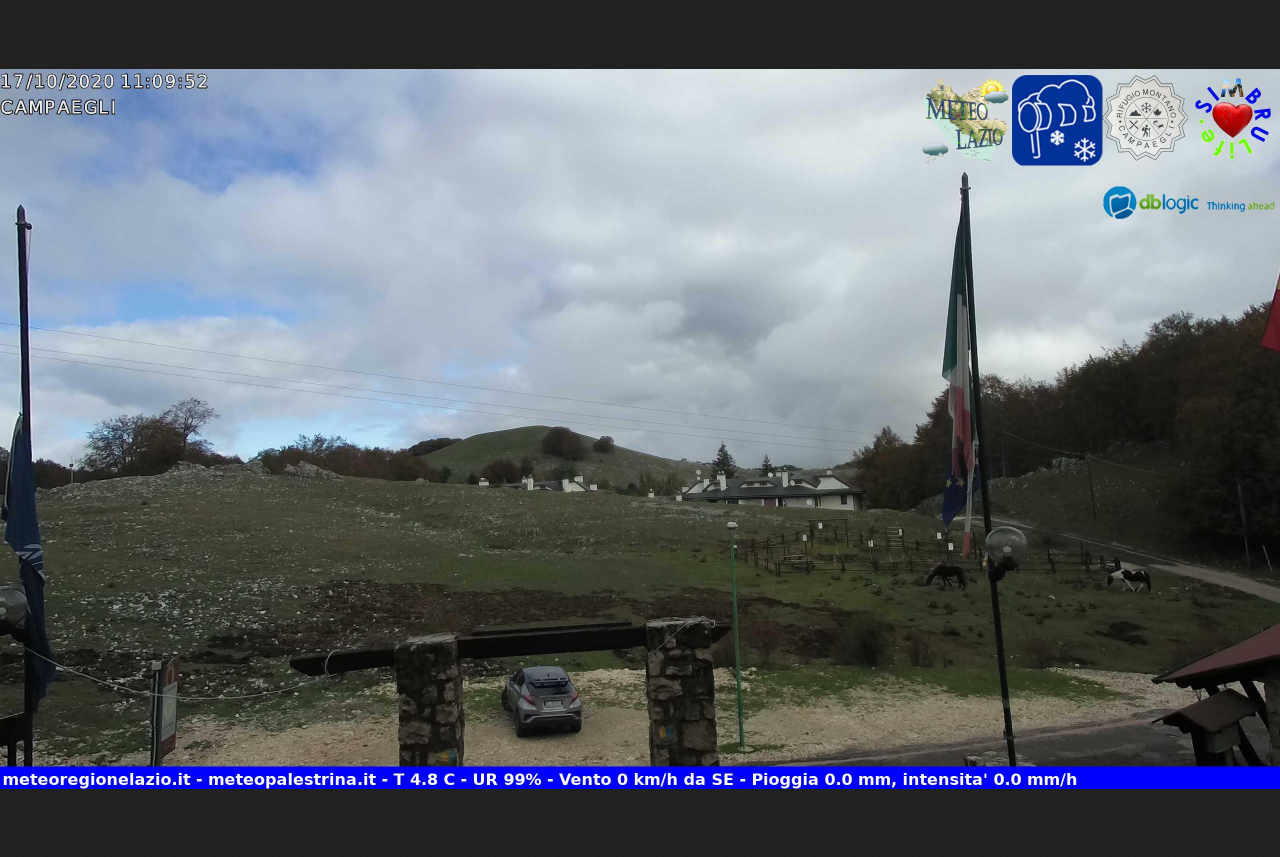no: (940, 196, 985, 460)
